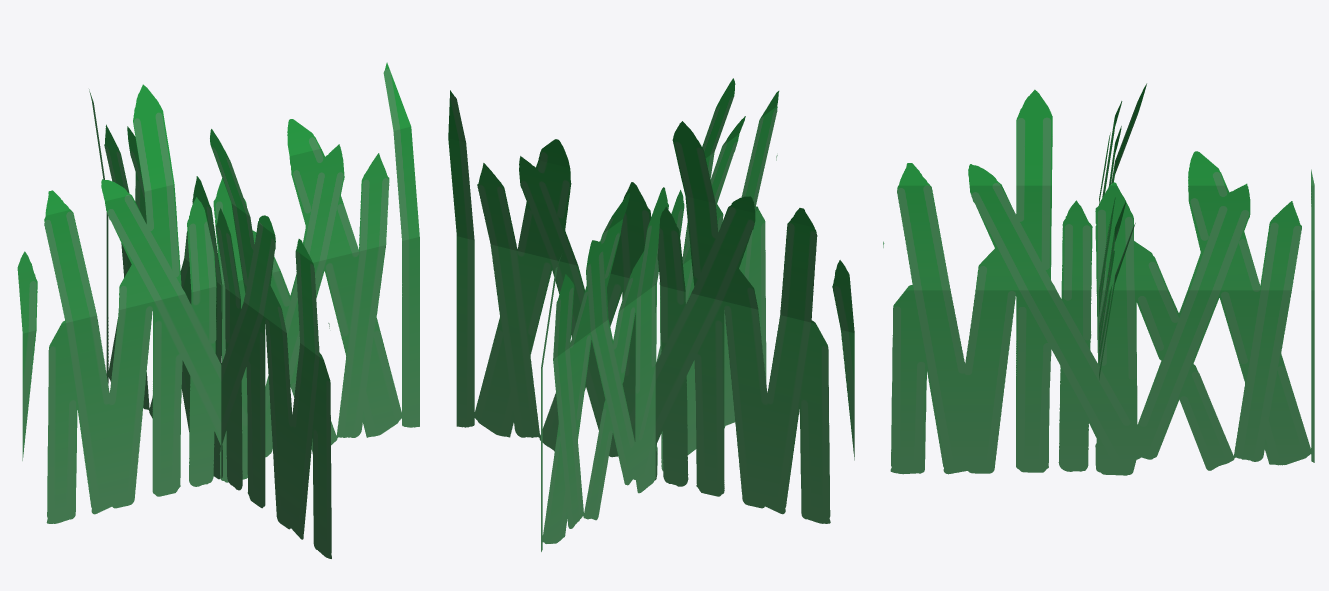
Rendered from grassClumpMidRangeLOD1.fbx.
3 views of the same model, side by side, from view 1: azimuth 30°, elevation 25°; view 2: azimuth 150°, elevation 25°; view 3: azimuth 270°, elevation 25° (orthographic). The views are drawn at different scales.
Parts seen in each view (by area): view 1: Plane; view 2: Plane; view 3: Plane.
Boxes of the visible parts, x1=… form: Plane: x1=17, y1=62, x2=419, y2=558; Plane: x1=448, y1=78, x2=854, y2=551; Plane: x1=883, y1=83, x2=1314, y2=475.
Bounding box in the file's own units: 30 × 30 × 30.
